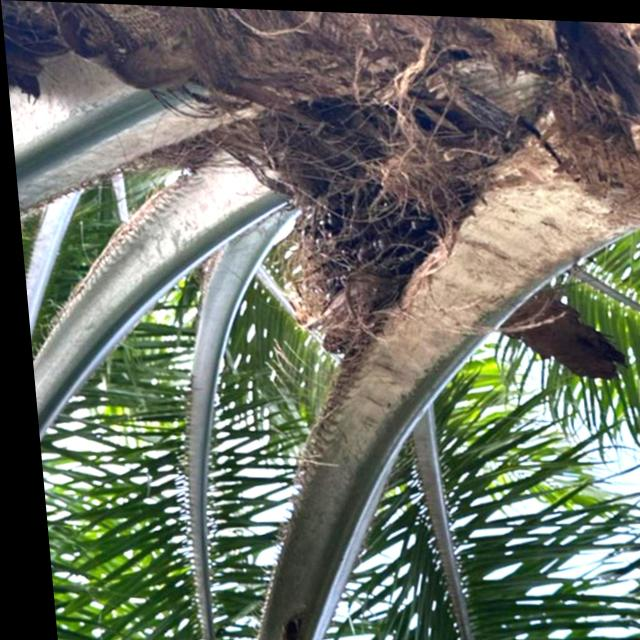unripe: (264, 170, 451, 368)
